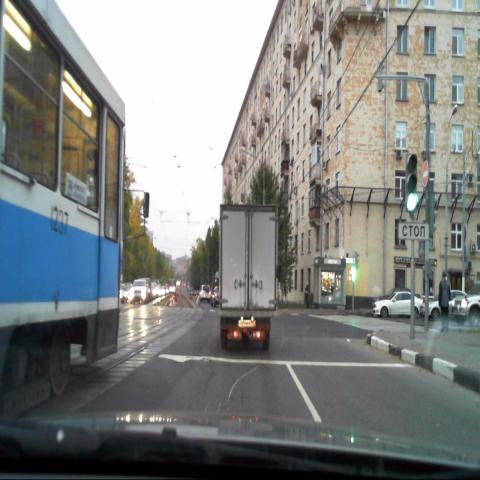3_1: (421, 160, 428, 188)
6_16: (398, 222, 429, 238)
